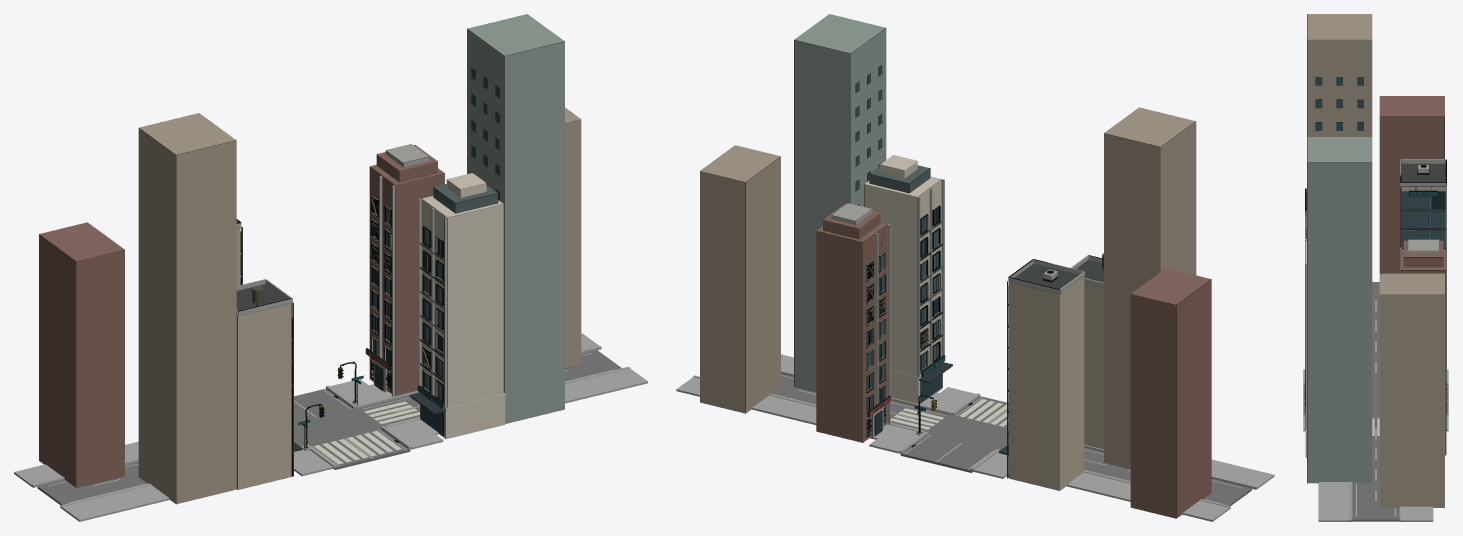
File: city_hd_05.glb
3 views of the same model, side by side, from view 1: azimuth 30°, elevation 25°; view 2: azimuth 150°, elevation 25°; view 3: azimuth 270°, elevation 25° (orthographic). The views are drawn at different scales.
Parts seen in each view (by area): view 1: CITY_blind, CITY_PBR_asphalt, CITY_PBR_pavement, CITY_zebra_paint, CITY_curb; view 2: CITY_blind, CITY_PBR_asphalt, CITY_PBR_pavement, CITY_curb, CITY_zebra_paint; view 3: CITY_blind, CITY_PBR_asphalt, CITY_PBR_pavement, CITY_paint, CITY_curb.
Part boxes in pixels (box(x1,y1,x2,y2)): CITY_blind: box(39, 14, 581, 504); CITY_PBR_asphalt: box(37, 350, 621, 505); CITY_PBR_pavement: box(14, 333, 647, 521); CITY_zebra_paint: box(314, 401, 419, 464); CITY_curb: box(32, 346, 629, 508); CITY_blind: box(700, 14, 1211, 518); CITY_PBR_asphalt: box(773, 373, 1251, 505); CITY_PBR_pavement: box(676, 354, 1274, 521); CITY_curb: box(693, 370, 1257, 508); CITY_zebra_paint: box(890, 399, 1008, 429); CITY_blind: box(1305, 14, 1446, 507); CITY_PBR_asphalt: box(1303, 282, 1448, 521); CITY_PBR_pavement: box(1303, 369, 1448, 521); CITY_paint: box(1303, 300, 1448, 516); CITY_curb: box(1303, 382, 1448, 521).
Size of the model in its own units: 63 by 39.26 by 16.
Materials: 7 (1 with a texture image).
